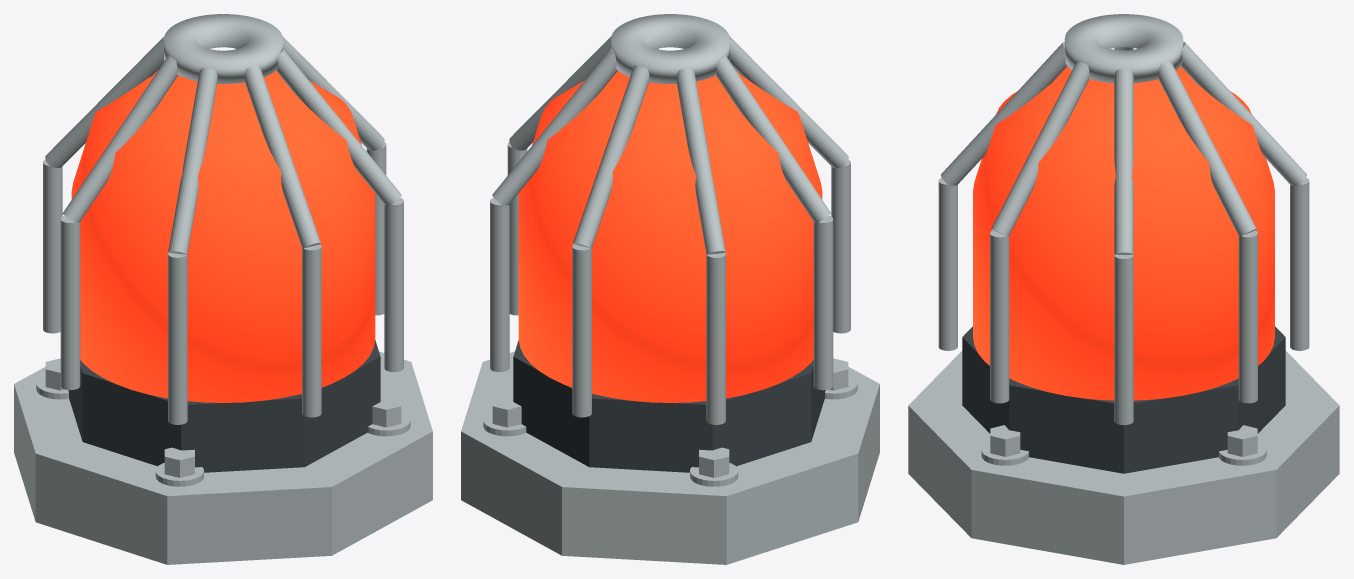
File: broadcast-tower-and-relay-station-broadcast-tower-and--9ca0763e__30256.glb
3 views of the same model, side by side, from view 1: azimuth 30°, elevation 25°; view 2: azimuth 150°, elevation 25°; view 3: azimuth 270°, elevation 25° (orthographic).
Parts seen in each view (by area): view 1: broadcast-tower-and-relay-station-aviation-beacon; view 2: broadcast-tower-and-relay-station-aviation-beacon; view 3: broadcast-tower-and-relay-station-aviation-beacon.
Boxes of the visible parts, x1,y1,x2,y2 form: broadcast-tower-and-relay-station-aviation-beacon: [14, 14, 432, 564]; broadcast-tower-and-relay-station-aviation-beacon: [461, 14, 879, 564]; broadcast-tower-and-relay-station-aviation-beacon: [908, 14, 1339, 564].
Bounding box in the file's own units: 0.4 × 0.445 × 0.4.
